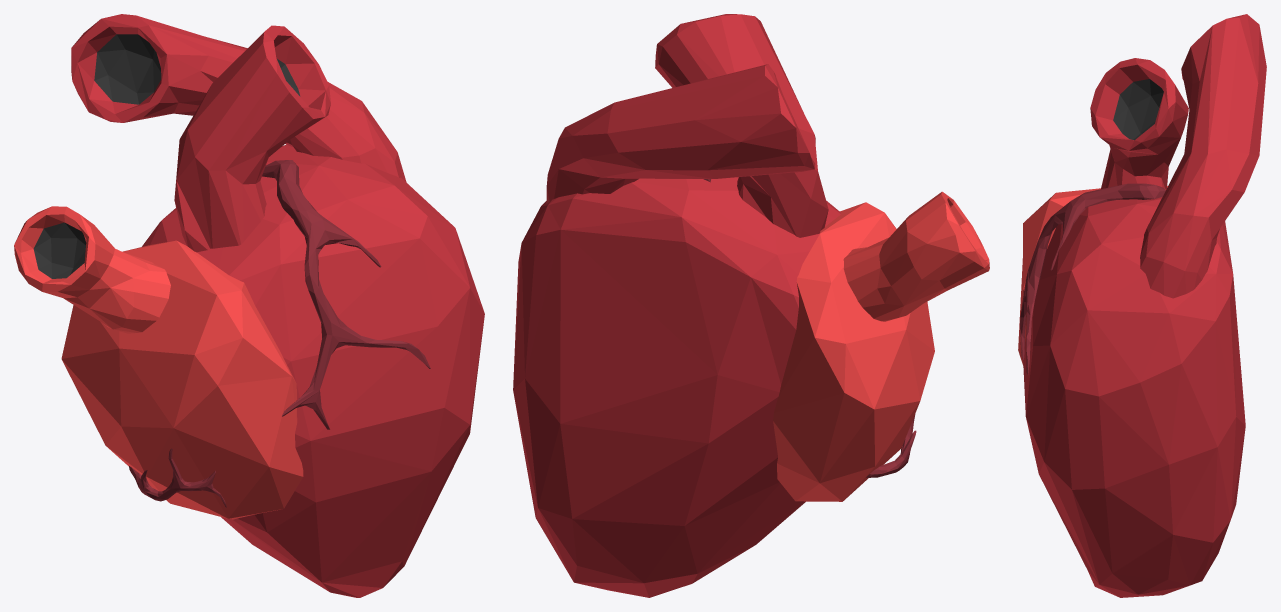
Rendered from heart.glb.
The picture shows the model from 3 angles, left to right: view 1: azimuth 30°, elevation 25°; view 2: azimuth 150°, elevation 25°; view 3: azimuth 270°, elevation 25°; orthographic projection. The views are drawn at different scales.
Parts seen in each view (by area): view 1: Cuore; view 2: Cuore; view 3: Cuore.
Part boxes in pixels (x1,y1,x2,y2): Cuore: (14, 14, 484, 597); Cuore: (513, 14, 989, 597); Cuore: (1018, 14, 1266, 597).
Bounding box in the file's own units: 4.34 × 5.55 × 2.47.
